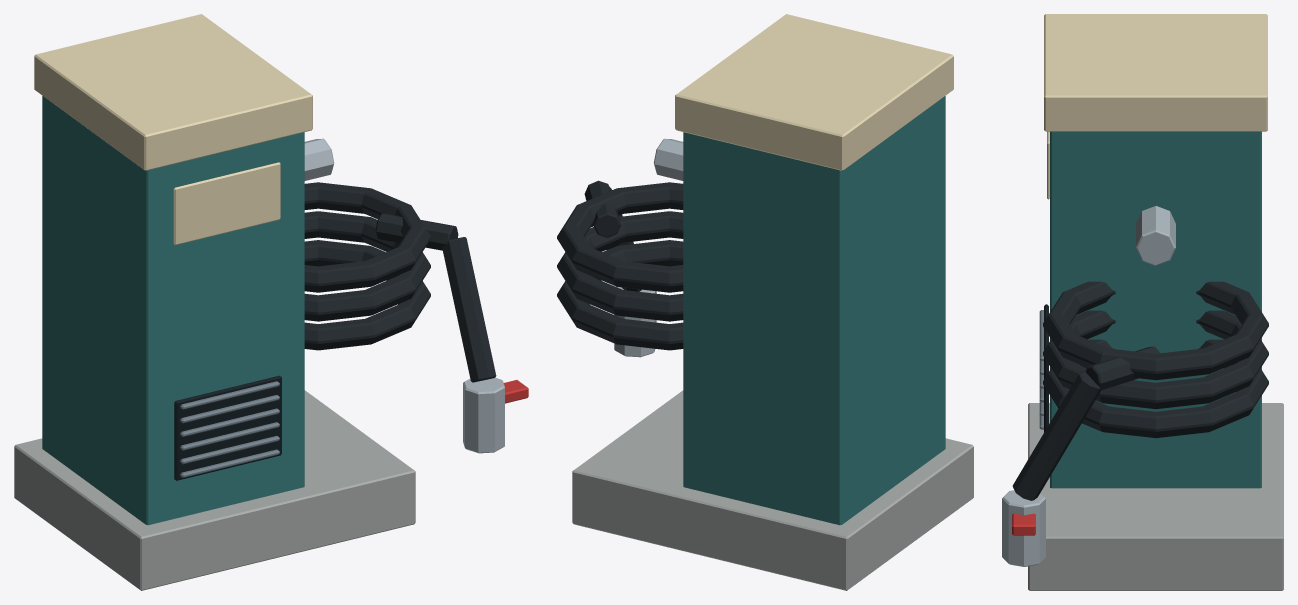
File: b20_marina_sewage_pumpout_station.glb
3 views of the same model, side by side, from view 1: azimuth 30°, elevation 25°; view 2: azimuth 150°, elevation 25°; view 3: azimuth 270°, elevation 25° (orthographic).
Parts seen in each view (by area): view 1: b20_marina_sewage_pumpout_station; view 2: b20_marina_sewage_pumpout_station; view 3: b20_marina_sewage_pumpout_station.
Boxes of the visible parts, <box> form: b20_marina_sewage_pumpout_station: <box>14,14,528,590</box>; b20_marina_sewage_pumpout_station: <box>557,14,973,590</box>; b20_marina_sewage_pumpout_station: <box>1002,14,1283,590</box>.
Bounding box in the file's own units: 1.11 × 1.24 × 0.705.
